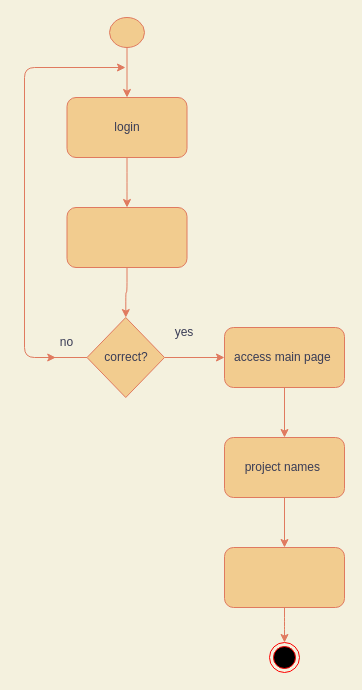
Image size: 362x690. Some labels were removed from this diagram. The box of each missing label's shape, as (x1, y1, x2, y2) in pixels:
enter credentials: (66, 206, 187, 268)
users: (224, 546, 344, 608)
